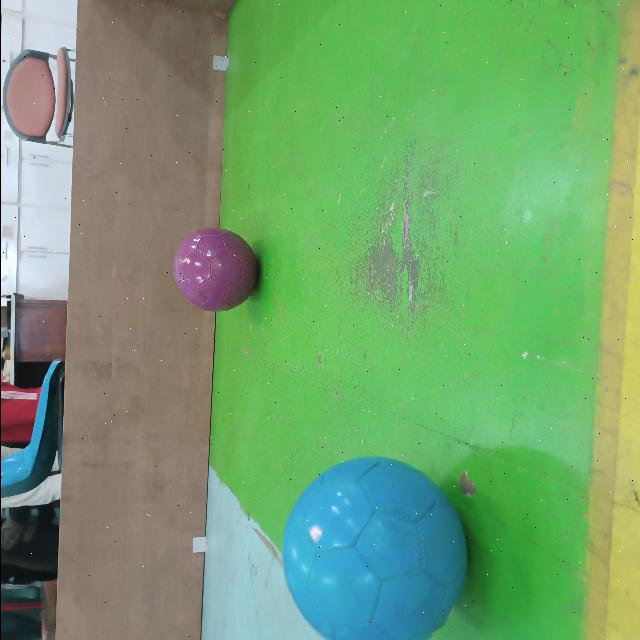B: (277, 454, 469, 640)
P: (170, 227, 262, 316)
